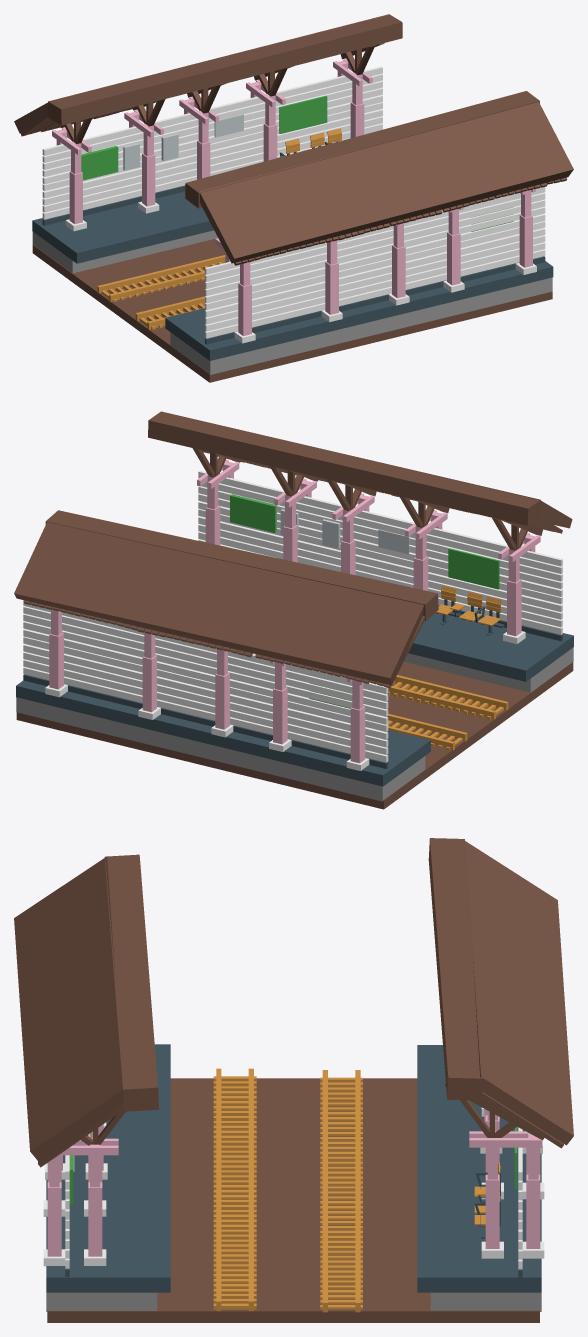
Rendered from japanese_train_station.glb.
The picture shows the model from 3 angles, top to bottom: view 1: azimuth 30°, elevation 25°; view 2: azimuth 150°, elevation 25°; view 3: azimuth 270°, elevation 25°; orthographic projection. The views are drawn at different scales.
Visible parts, largest first — view 1: group392127015, group363826387, group442698204, group564881360, group208473988, group1408056217, group1220815049, group20818879, group933897435, group433978502, group1835161476, group98640599 (+34 smaller); view 2: group2017282356, group1220815049, group442698204, group208473988, group599022633, group564881360, group363826387, group2092357557, group1608791775, group98640599, group1607514826, group433978502 (+33 smaller); view 3: group442698204, group392127015, group2017282356, group208473988, group564881360, group548381342, group1835161476, group363826387, group1220815049, group599022633, group1408056217, group2078504602 (+4 smaller).
Boxes of the visible parts, x1,y1,x2,y2 form: group392127015: (199, 102, 573, 263); group363826387: (48, 14, 402, 125); group442698204: (32, 238, 552, 382); group564881360: (165, 261, 553, 360); group208473988: (32, 191, 213, 263); group1408056217: (170, 277, 552, 374); group1220815049: (185, 91, 539, 208); group20818879: (205, 192, 545, 281); group933897435: (205, 199, 545, 288); group433978502: (205, 228, 545, 317); group1835161476: (97, 255, 225, 302); group98640599: (42, 109, 382, 198); group2017282356: (14, 520, 423, 685); group1220815049: (148, 411, 540, 525); group442698204: (16, 662, 573, 809); group208473988: (16, 680, 430, 786); group599022633: (16, 697, 425, 801); group564881360: (408, 612, 573, 681); group363826387: (45, 510, 438, 620); group2092357557: (23, 606, 388, 701); group1608791775: (23, 614, 388, 709); group98640599: (23, 644, 388, 739); group1607514826: (23, 629, 388, 724); group433978502: (198, 516, 562, 612); group442698204: (47, 1078, 539, 1322); group392127015: (14, 856, 123, 1163); group2017282356: (465, 841, 573, 1145); group208473988: (417, 1045, 541, 1292); group564881360: (46, 1044, 170, 1292); group548381342: (213, 1068, 256, 1311); group1835161476: (320, 1070, 362, 1312); group363826387: (428, 838, 483, 1100); group1220815049: (104, 854, 159, 1111); group599022633: (430, 1292, 541, 1311); group1408056217: (46, 1292, 157, 1311); group2078504602: (47, 1182, 61, 1256).
Bounding box in the file's own units: 4.58 × 2.08 × 4.31.
